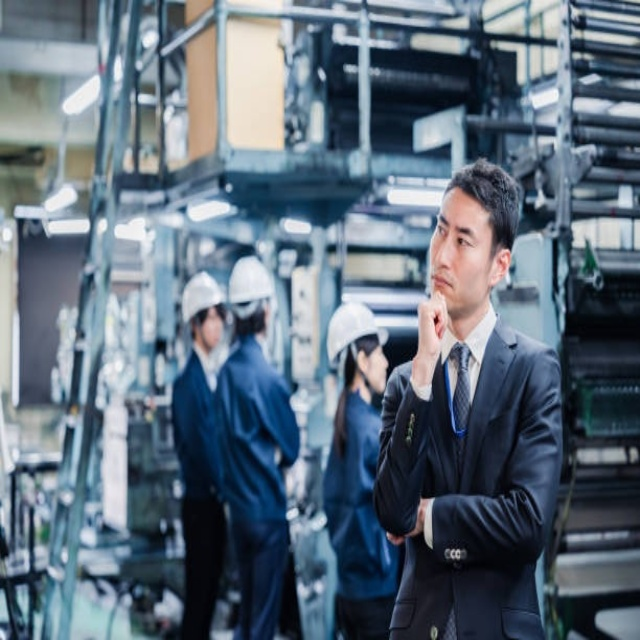Sin_gafas: (434, 204, 486, 254)
Sin_guantes: (413, 292, 451, 369)
Sin_mascara: (429, 262, 466, 296)
